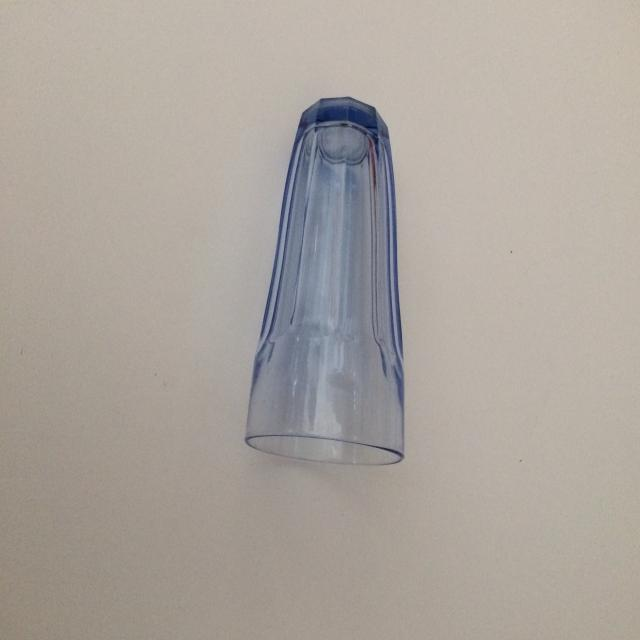glass: (244, 96, 406, 465)
